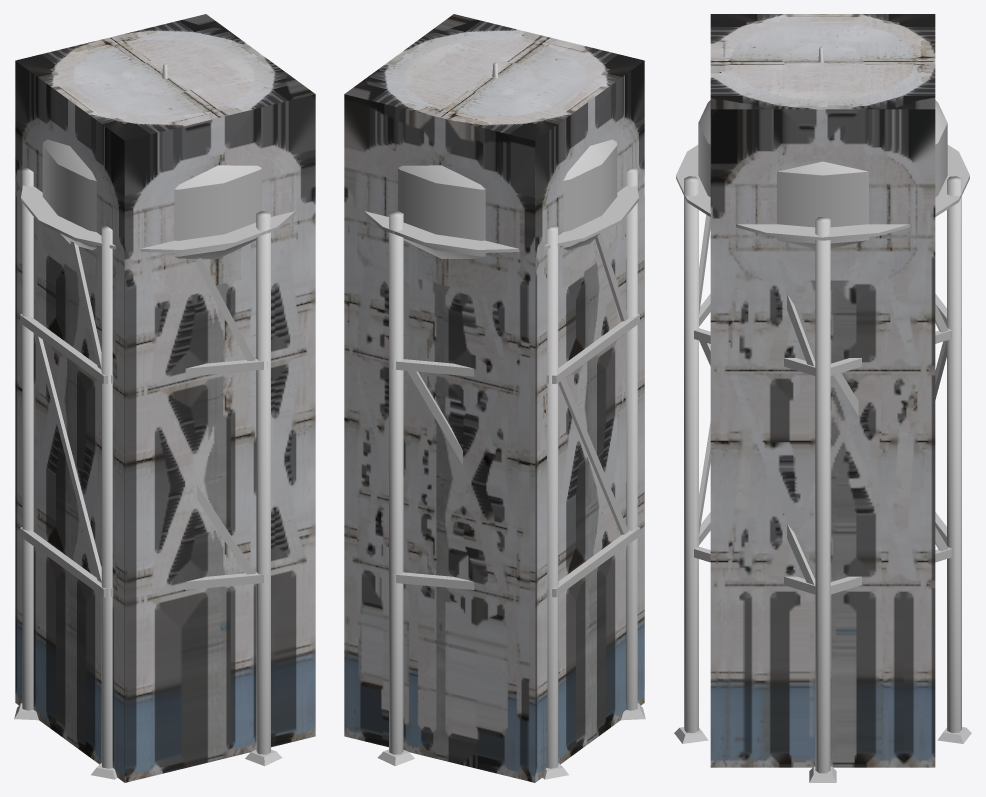
The model's file is dz_industrial_14.fbx.
3 renders of one model, left to right at view 1: azimuth 30°, elevation 25°; view 2: azimuth 150°, elevation 25°; view 3: azimuth 270°, elevation 25°, orthographic. The views are drawn at different scales.
Parts seen in each view (by area): view 1: dz_industrial_14_LOD0; view 2: dz_industrial_14_LOD0; view 3: dz_industrial_14_LOD0.
Part boxes in pixels (x1=…): dz_industrial_14_LOD0: x1=14, y1=14, x2=315, y2=782; dz_industrial_14_LOD0: x1=344, y1=14, x2=645, y2=782; dz_industrial_14_LOD0: x1=674, y1=14, x2=971, y2=782.
Size of what is drawn, in the model's own units: 9.79 by 24.26 by 9.75.
